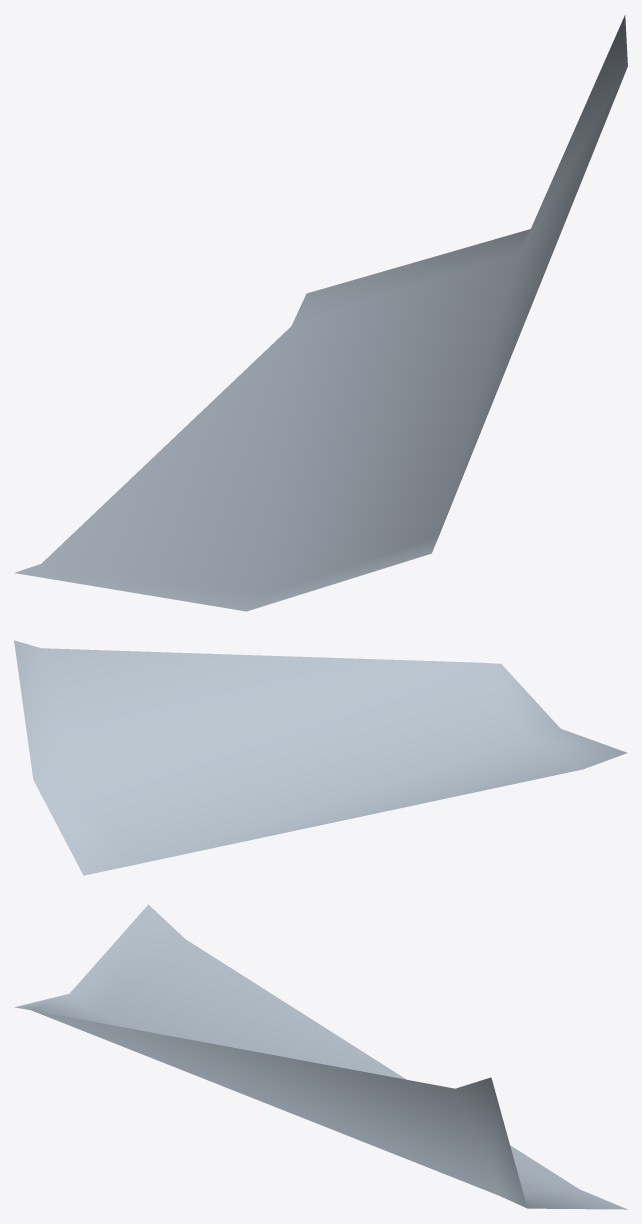
Rendered from plantar-calcaneocuboid-ligament-r.glb.
The picture shows the model from 3 angles, top to bottom: view 1: azimuth 30°, elevation 25°; view 2: azimuth 150°, elevation 25°; view 3: azimuth 270°, elevation 25°; orthographic projection. The views are drawn at different scales.
Parts seen in each view (by area): view 1: Plantar calcaneocuboid ligament.r; view 2: Plantar calcaneocuboid ligament.r; view 3: Plantar calcaneocuboid ligament.r.
Part boxes in pixels (x1,y1,x2,y2): Plantar calcaneocuboid ligament.r: (15, 15, 627, 611); Plantar calcaneocuboid ligament.r: (14, 640, 627, 875); Plantar calcaneocuboid ligament.r: (14, 904, 627, 1209).
Bounding box in the file's own units: 0.0165 × 0.00547 × 0.0146.
